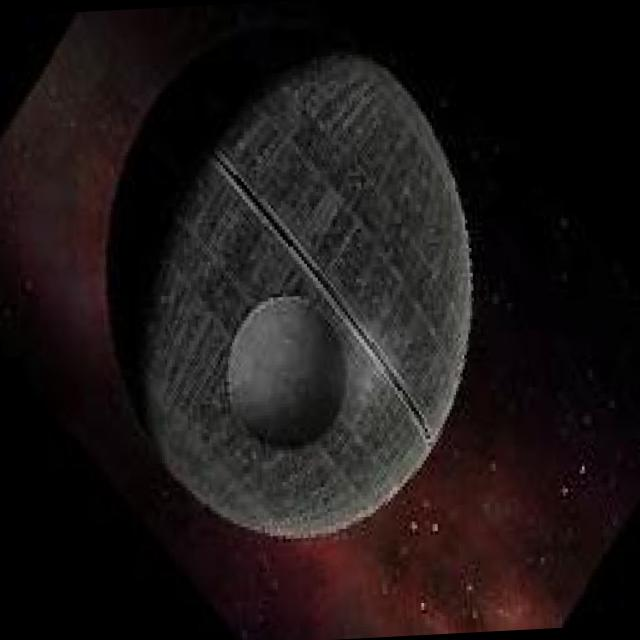Death Star: (112, 31, 492, 554)
